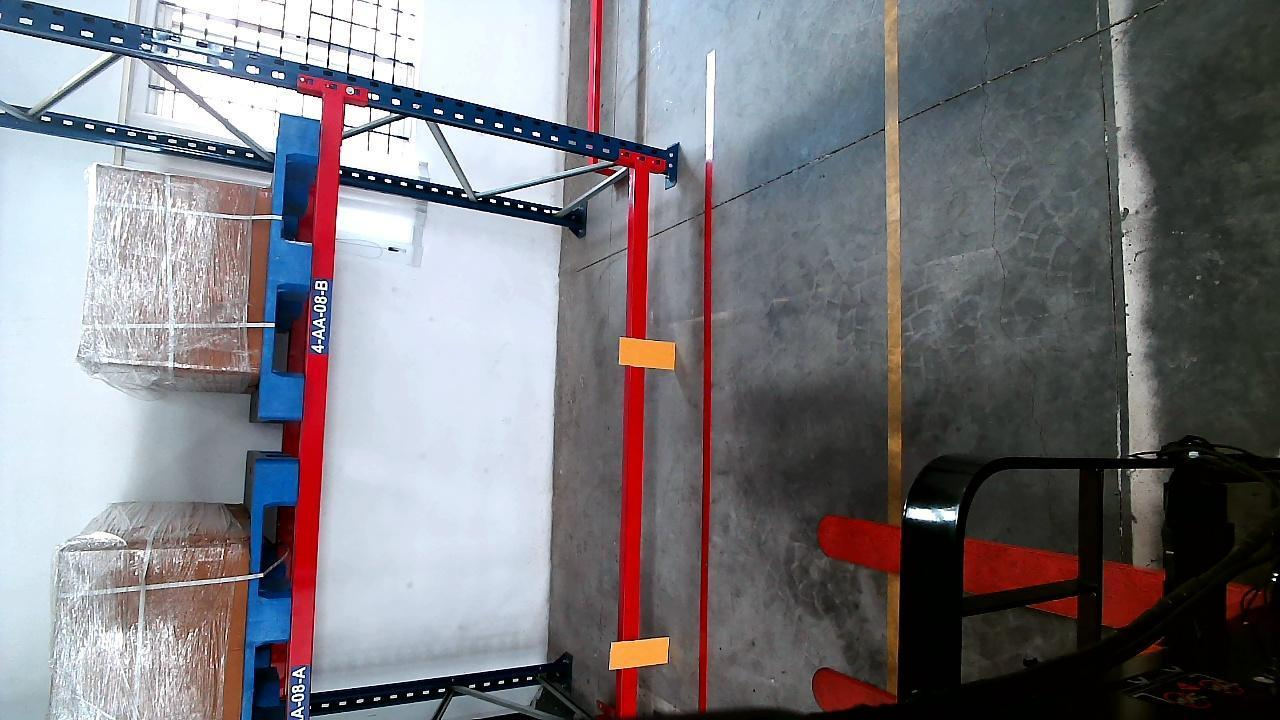h_rack: (286, 100, 345, 719), (618, 161, 652, 720)
orange_strip: (612, 635, 672, 670), (621, 338, 677, 367)
red_line: (694, 141, 721, 712)
small_pallet: (261, 111, 319, 413), (247, 464, 296, 720)
yellow_line: (882, 1, 909, 504)
